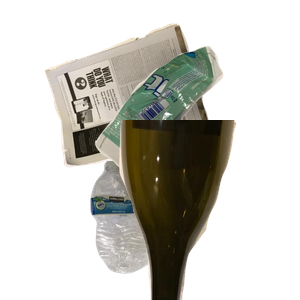glass: (117, 120, 300, 300)
paper: (42, 21, 249, 181)
plastic: (88, 158, 229, 300)
trash: (92, 44, 300, 211)
